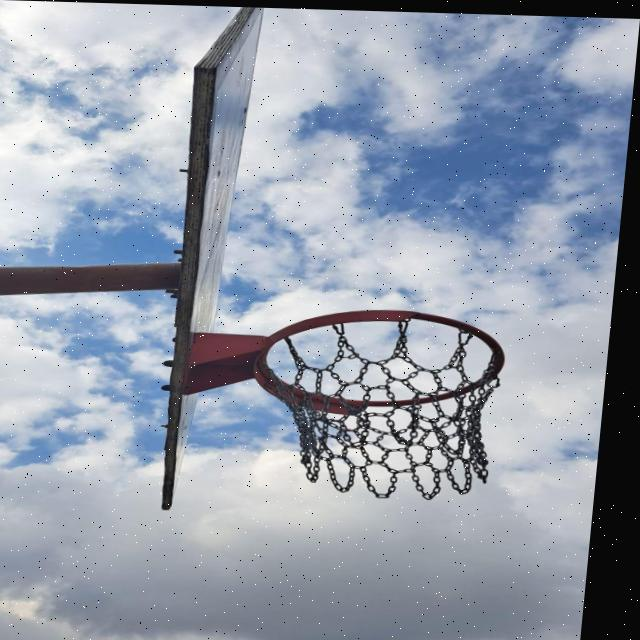hoop: (235, 291, 539, 510)
